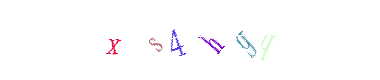4: (149, 0, 229, 80)
G: (170, 0, 250, 80)
H: (156, 0, 236, 80)
Q: (205, 0, 285, 80)
S: (101, 0, 181, 80)
X: (73, 0, 153, 80)
